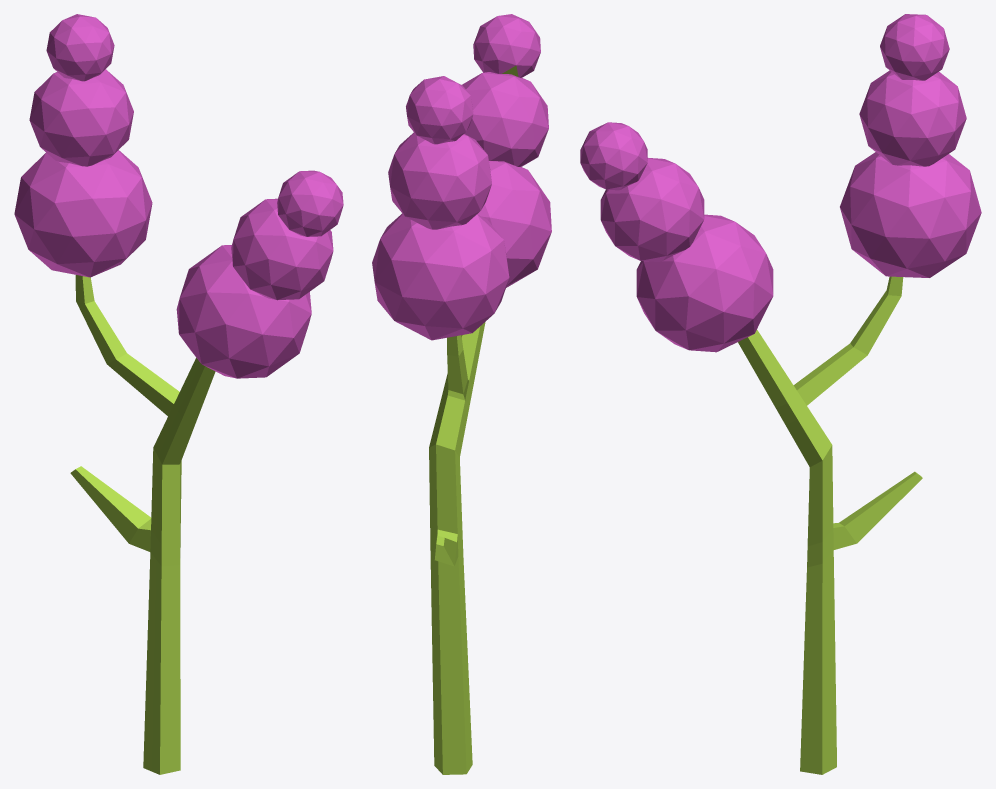
The model's file is ENV_lavender_color.fbx.
The picture shows the model from 3 angles, left to right: view 1: azimuth 30°, elevation 25°; view 2: azimuth 150°, elevation 25°; view 3: azimuth 270°, elevation 25°; orthographic projection.
Visible parts, largest first — view 1: Icosphere; view 2: Icosphere; view 3: Icosphere.
Part boxes in pixels (bbox=[...]): Icosphere: bbox=[14, 14, 343, 774]; Icosphere: bbox=[372, 14, 551, 774]; Icosphere: bbox=[580, 14, 981, 774].
Bounding box in the file's own units: 107 × 55.08 × 216.
